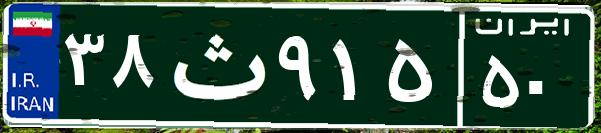0: (525, 38, 570, 115)
1: (330, 28, 385, 110)
3: (57, 26, 110, 107)
5: (385, 28, 445, 110), (475, 38, 525, 113)
8: (110, 28, 158, 105)
9: (273, 28, 330, 110)
ث: (158, 15, 273, 115)
